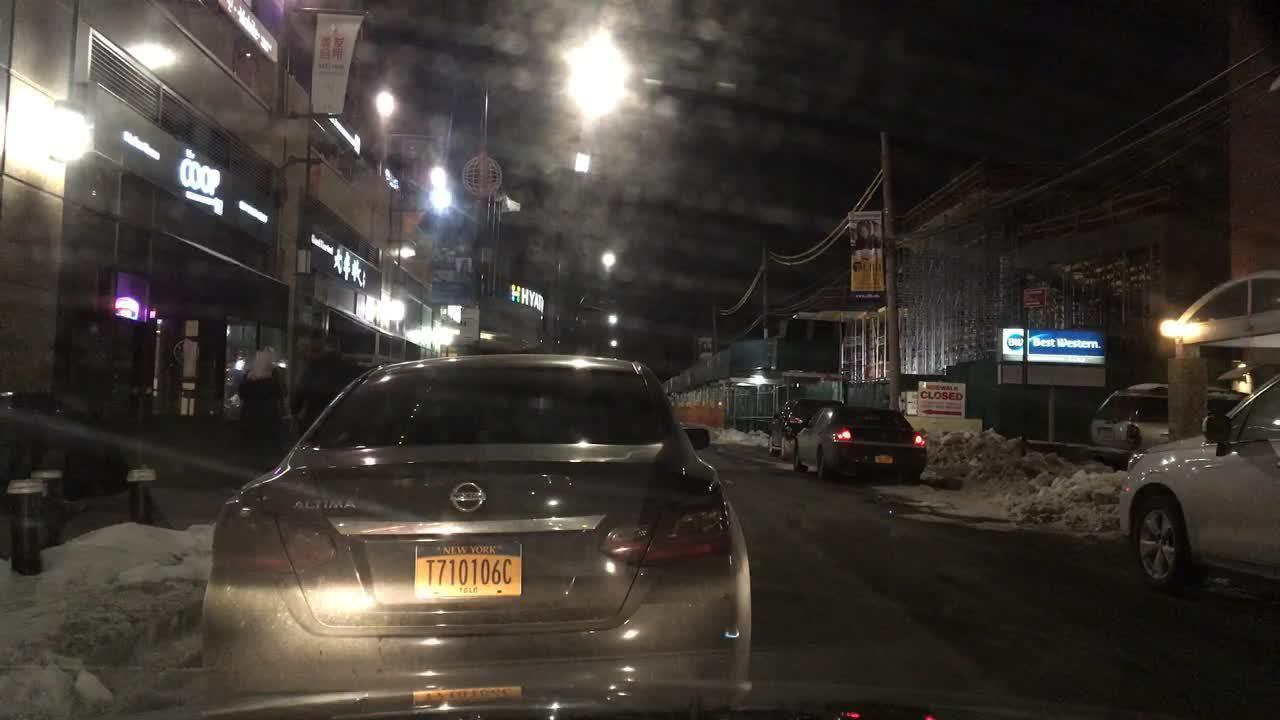Nissan: (433, 473, 505, 524)
